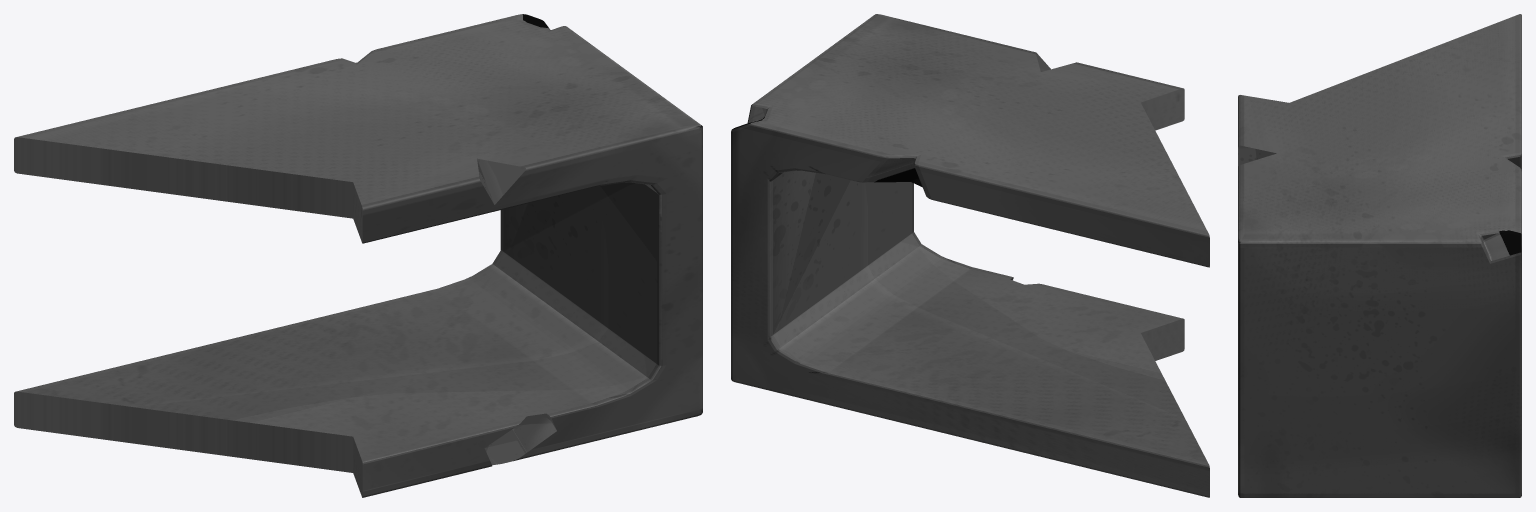
Rendered from Brick-2-Half-2.fbx.
The picture shows the model from 3 angles, left to right: view 1: azimuth 30°, elevation 25°; view 2: azimuth 150°, elevation 25°; view 3: azimuth 270°, elevation 25°; orthographic projection. The views are drawn at different scales.
Visible parts, largest first — view 1: Brick-1.003; view 2: Brick-1.003; view 3: Brick-1.003.
Part boxes in pixels (<box>): Brick-1.003: <box>14,14,702,497</box>; Brick-1.003: <box>731,14,1209,497</box>; Brick-1.003: <box>1238,14,1521,497</box>.
Size of the model in its own units: 12646 by 6635 by 6635.
